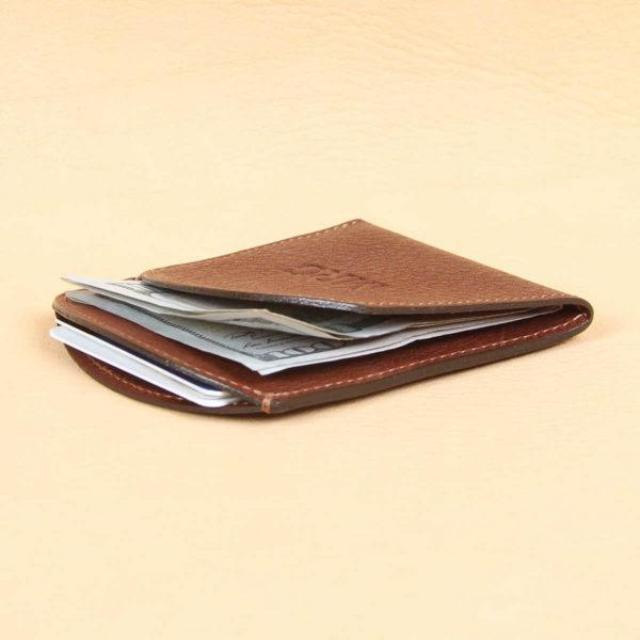wallet: (48, 215, 596, 427)
